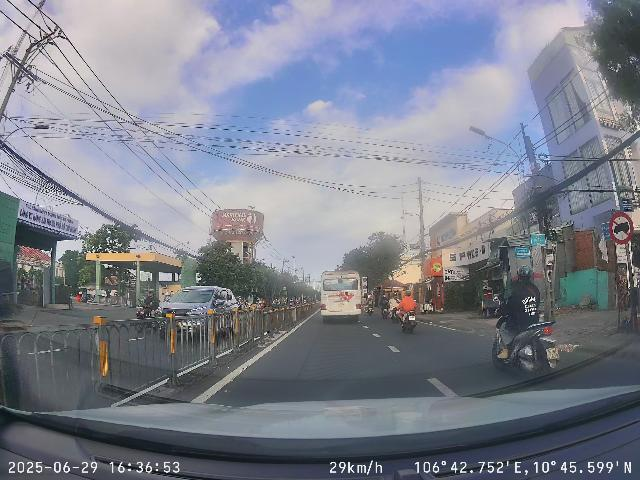106-cam-oto-tai: (609, 212, 634, 245)
